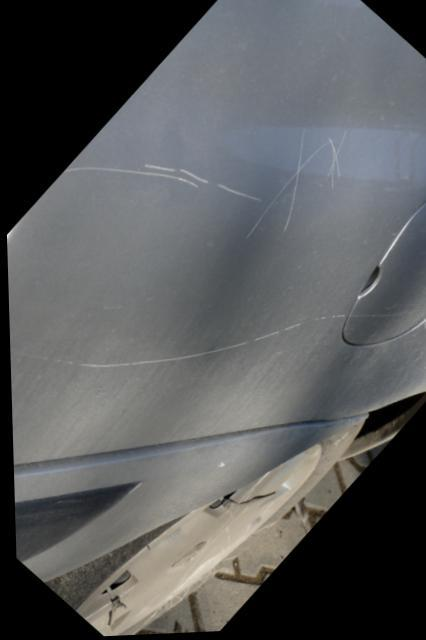crack: (222, 494, 273, 509), (103, 596, 124, 629)
scratch: (58, 129, 350, 243), (62, 316, 345, 371)
